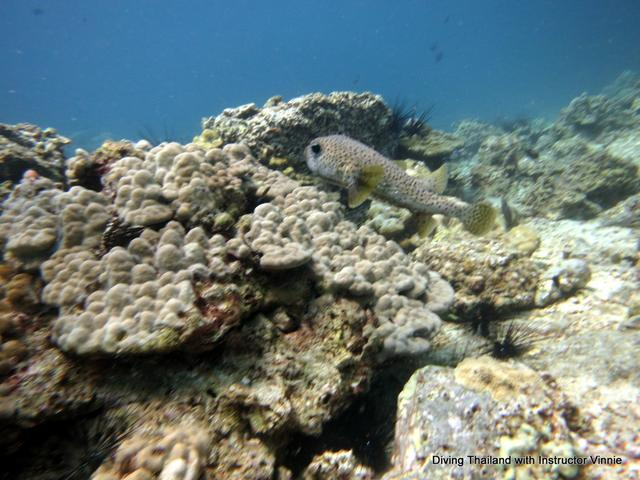fish: (284, 119, 557, 253)
